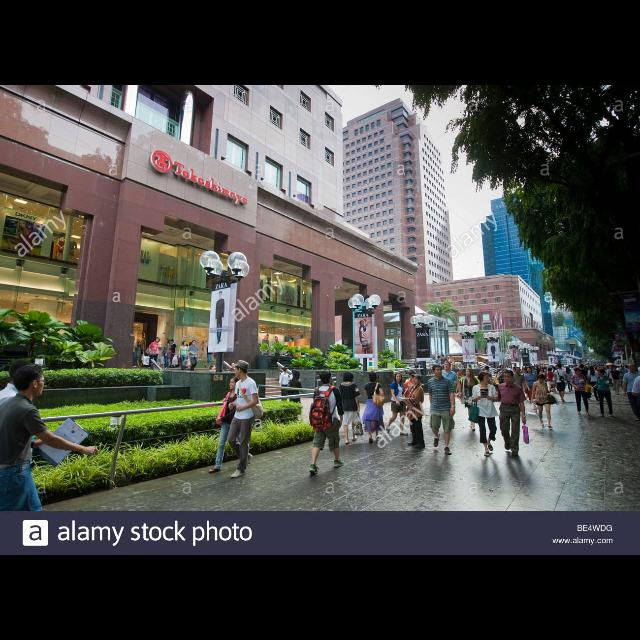head: (13, 366, 45, 398), (8, 361, 38, 389), (234, 363, 248, 379), (319, 371, 333, 385), (228, 378, 240, 390), (504, 370, 514, 384), (478, 373, 489, 385), (344, 371, 354, 383), (433, 366, 443, 378), (628, 363, 638, 373), (369, 372, 377, 382), (412, 376, 422, 384), (444, 362, 452, 372), (466, 368, 474, 378), (293, 372, 301, 381), (538, 376, 546, 384), (574, 369, 582, 377), (598, 369, 606, 377), (396, 373, 402, 383), (500, 365, 506, 371), (527, 368, 533, 374), (579, 364, 585, 370), (156, 338, 160, 344), (166, 338, 170, 344), (182, 342, 188, 346), (516, 368, 520, 374), (558, 364, 562, 370), (138, 342, 142, 346), (171, 340, 175, 344), (192, 342, 196, 346), (209, 342, 213, 346), (284, 368, 288, 372), (292, 370, 296, 374), (459, 370, 463, 374), (486, 368, 490, 372), (566, 368, 570, 372), (590, 367, 594, 371), (613, 366, 617, 370), (622, 365, 626, 369), (550, 368, 552, 372)
person: (224, 359, 266, 481), (207, 376, 256, 476), (308, 368, 346, 478), (488, 369, 532, 458), (467, 370, 499, 460), (426, 364, 456, 456), (336, 369, 366, 446), (404, 372, 430, 451), (361, 369, 387, 445), (436, 360, 462, 428), (530, 374, 560, 432), (384, 371, 410, 437), (459, 368, 481, 432), (590, 367, 616, 419), (568, 368, 594, 417), (287, 370, 305, 420), (509, 368, 526, 408), (554, 364, 570, 404), (588, 366, 604, 402), (288, 368, 302, 408), (524, 367, 538, 405), (146, 338, 162, 370), (278, 366, 290, 408), (481, 366, 495, 402), (576, 364, 590, 400), (496, 364, 508, 400), (160, 337, 172, 371), (188, 340, 200, 372), (618, 364, 630, 396), (178, 341, 190, 372), (167, 339, 179, 369), (610, 366, 622, 396), (454, 369, 466, 398), (134, 341, 144, 369), (204, 342, 214, 370), (564, 366, 574, 394), (546, 367, 556, 393)
